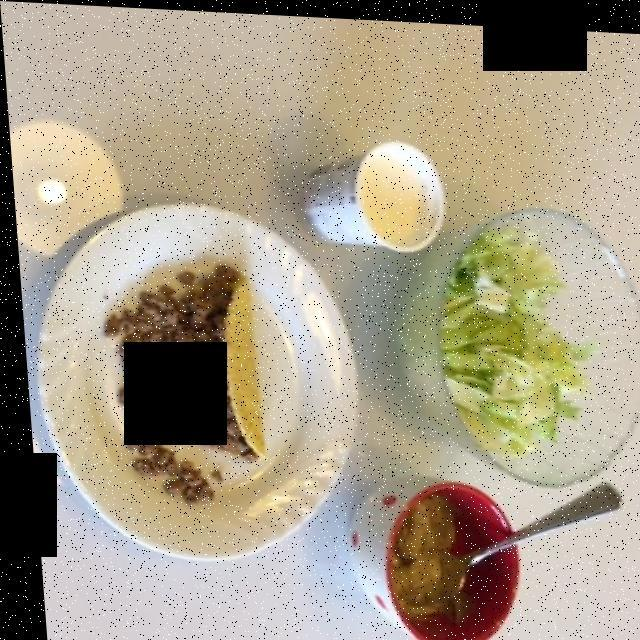avocado: (383, 490, 466, 608)
salad: (437, 224, 581, 436)
sour-cream: (357, 143, 434, 243)
